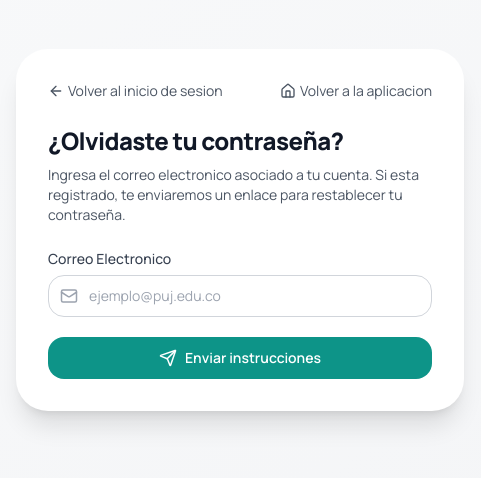
ForgotPassword › muestra mensaje de error si la peticion falla
The width and height of the screenshot is (481, 478).
Type "user@x.com" into the field labelled "Correo Electronico" at [240, 296], box top-left (48, 275), bottom-right (432, 317)
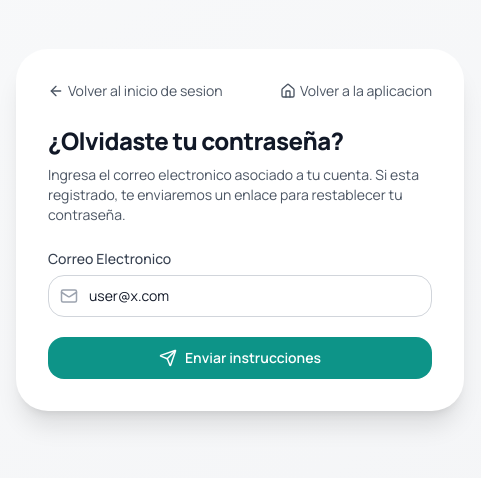
Click the button "Enviar instrucciones" at [240, 358], box top-left (48, 337), bottom-right (432, 379)
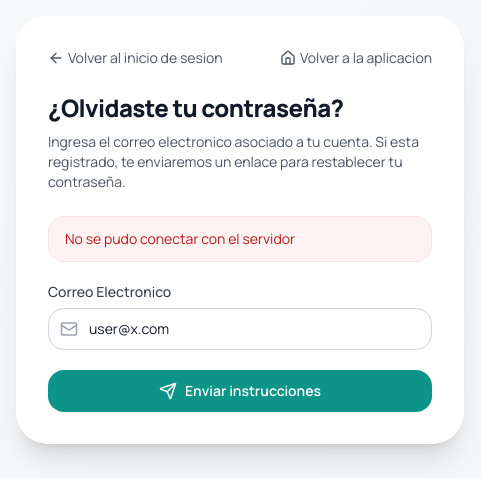
Expected: the text "No se pudo conectar con el servidor" is shown, top-left (48, 216), bottom-right (432, 262)
